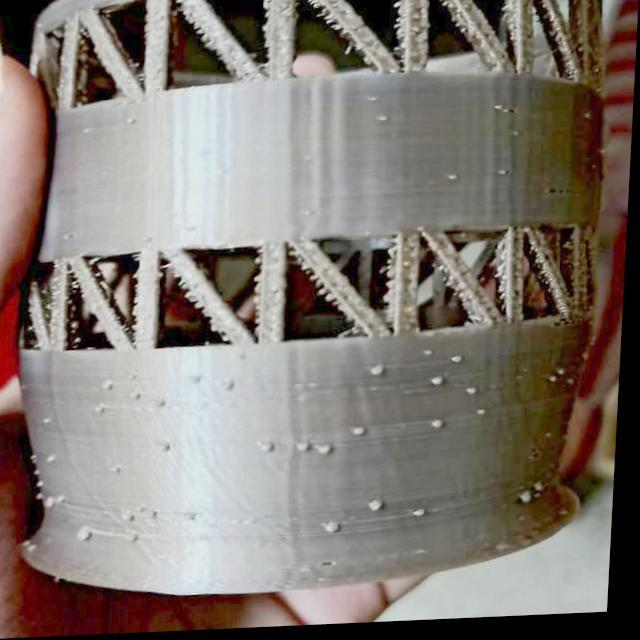zits: (78, 522, 103, 546), (45, 492, 74, 512), (368, 501, 394, 522), (323, 522, 350, 542), (518, 492, 541, 514), (446, 356, 473, 374), (224, 377, 247, 398), (367, 366, 391, 386), (320, 444, 341, 466), (369, 112, 394, 129), (417, 508, 438, 527), (444, 171, 464, 190), (130, 526, 149, 546), (474, 406, 495, 424), (264, 441, 282, 462), (432, 418, 451, 437), (352, 428, 372, 446), (154, 396, 174, 414), (430, 379, 451, 396), (299, 441, 320, 458), (188, 512, 209, 529), (106, 379, 125, 396), (47, 453, 66, 469), (128, 513, 144, 528), (134, 393, 152, 406), (468, 389, 480, 404)
